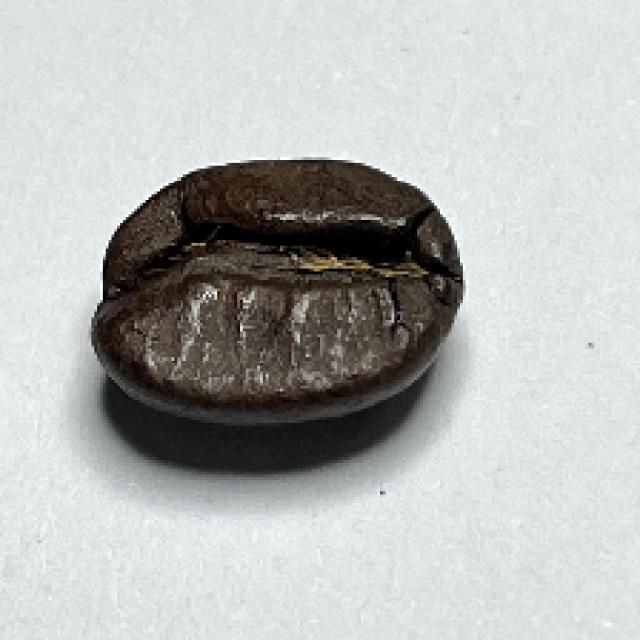bean: (88, 155, 469, 422)
